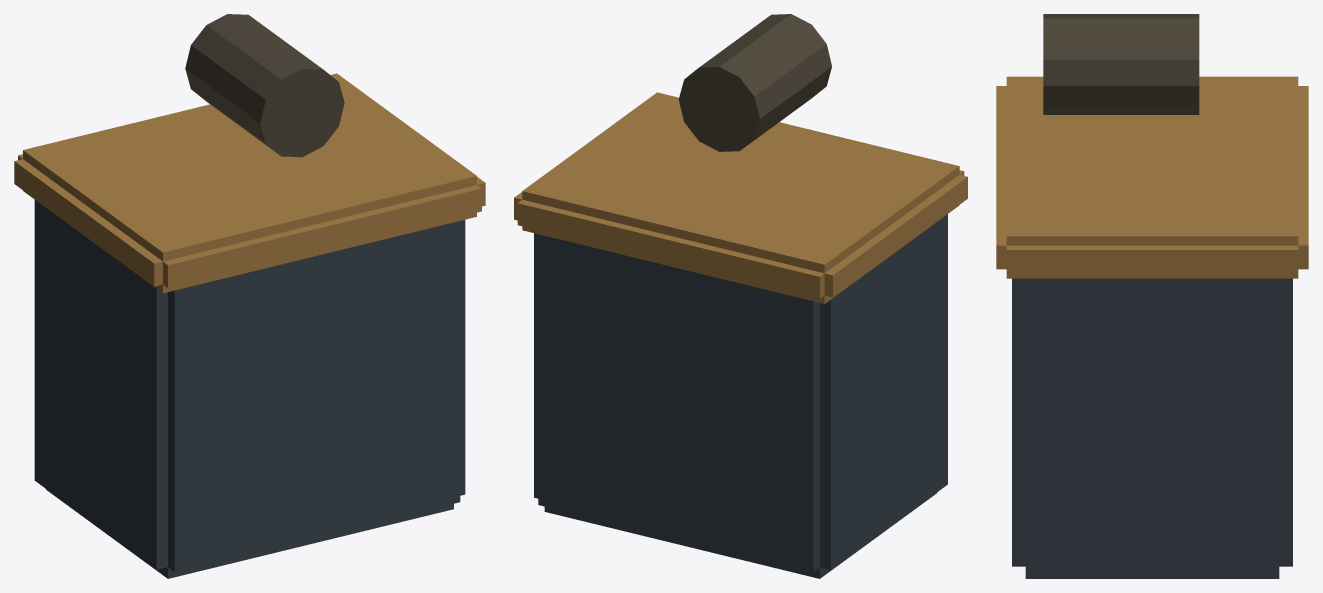
The model's file is foundry-stand-v01.glb.
The picture shows the model from 3 angles, left to right: view 1: azimuth 30°, elevation 25°; view 2: azimuth 150°, elevation 25°; view 3: azimuth 270°, elevation 25°; orthographic projection. The views are drawn at different scales.
Visible parts, largest first — view 1: Foundry Basalt • charcoal, Foundry Bronze • forged warm, Foundry Bronze • aged recess; view 2: Foundry Basalt • charcoal, Foundry Bronze • forged warm, Foundry Bronze • aged recess; view 3: Foundry Basalt • charcoal, Foundry Bronze • forged warm, Foundry Bronze • aged recess.
Part boxes in pixels (left/top/right/bottom): Foundry Basalt • charcoal: left=34, top=200, right=465, bottom=578; Foundry Bronze • forged warm: left=14, top=73, right=485, bottom=293; Foundry Bronze • aged recess: left=185, top=14, right=344, bottom=157; Foundry Basalt • charcoal: left=534, top=214, right=947, bottom=578; Foundry Bronze • forged warm: left=514, top=92, right=967, bottom=303; Foundry Bronze • aged recess: left=678, top=14, right=831, bottom=151; Foundry Basalt • charcoal: left=1012, top=278, right=1292, bottom=578; Foundry Bronze • forged warm: left=996, top=76, right=1308, bottom=278; Foundry Bronze • aged recess: left=1043, top=14, right=1199, bottom=114.
Bounding box in the file's own units: 1.02 × 1.38 × 0.8.
